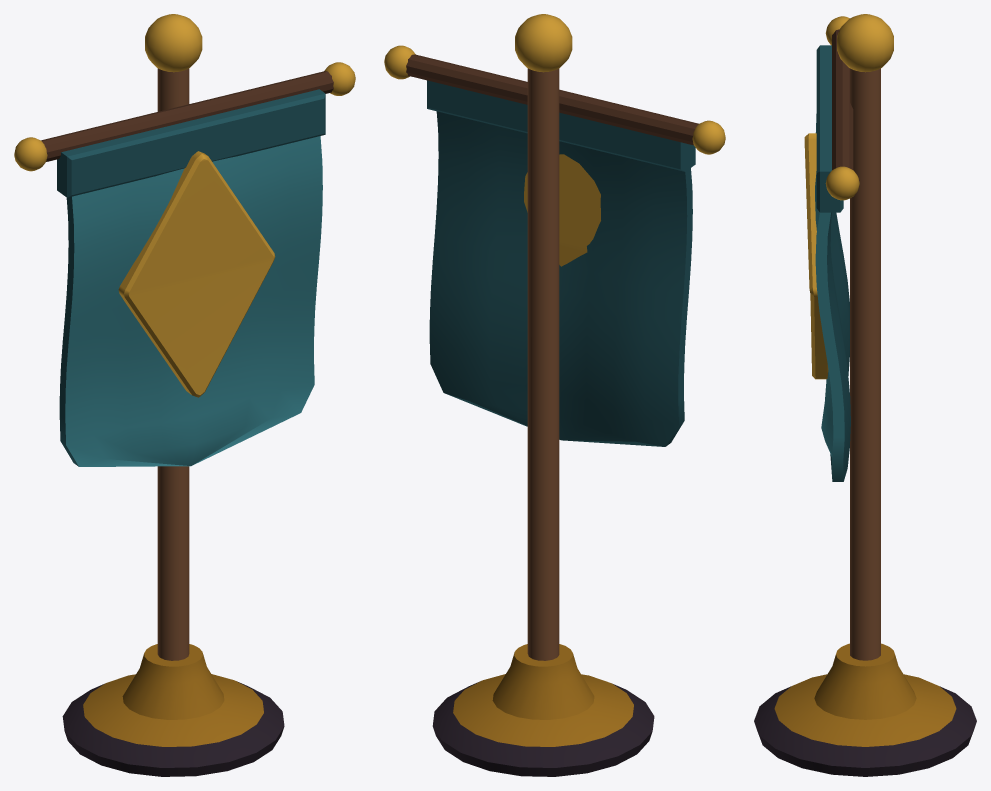
Rendered from Banner_07.glb.
3 renders of one model, left to right at view 1: azimuth 30°, elevation 25°; view 2: azimuth 150°, elevation 25°; view 3: azimuth 270°, elevation 25°, orthographic.
Visible parts, largest first — view 1: Banner_07; view 2: Banner_07; view 3: Banner_07.
Boxes of the visible parts, left/top/right/bottom form: Banner_07: left=14, top=14, right=355, bottom=776; Banner_07: left=384, top=14, right=725, bottom=776; Banner_07: left=754, top=14, right=976, bottom=776.
Size of the model in its own units: 3.42 by 6.93 by 1.96.
